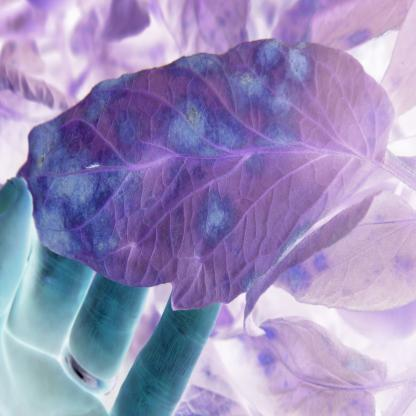tomato mold leaf: (7, 35, 407, 308)
